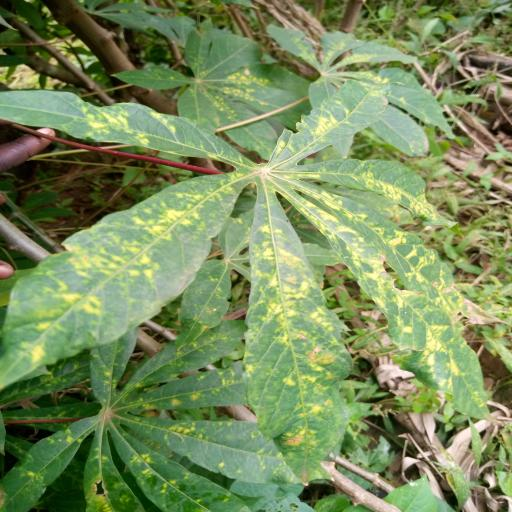Cassava_Mosaic: (0, 77, 494, 480), (9, 324, 293, 512)
